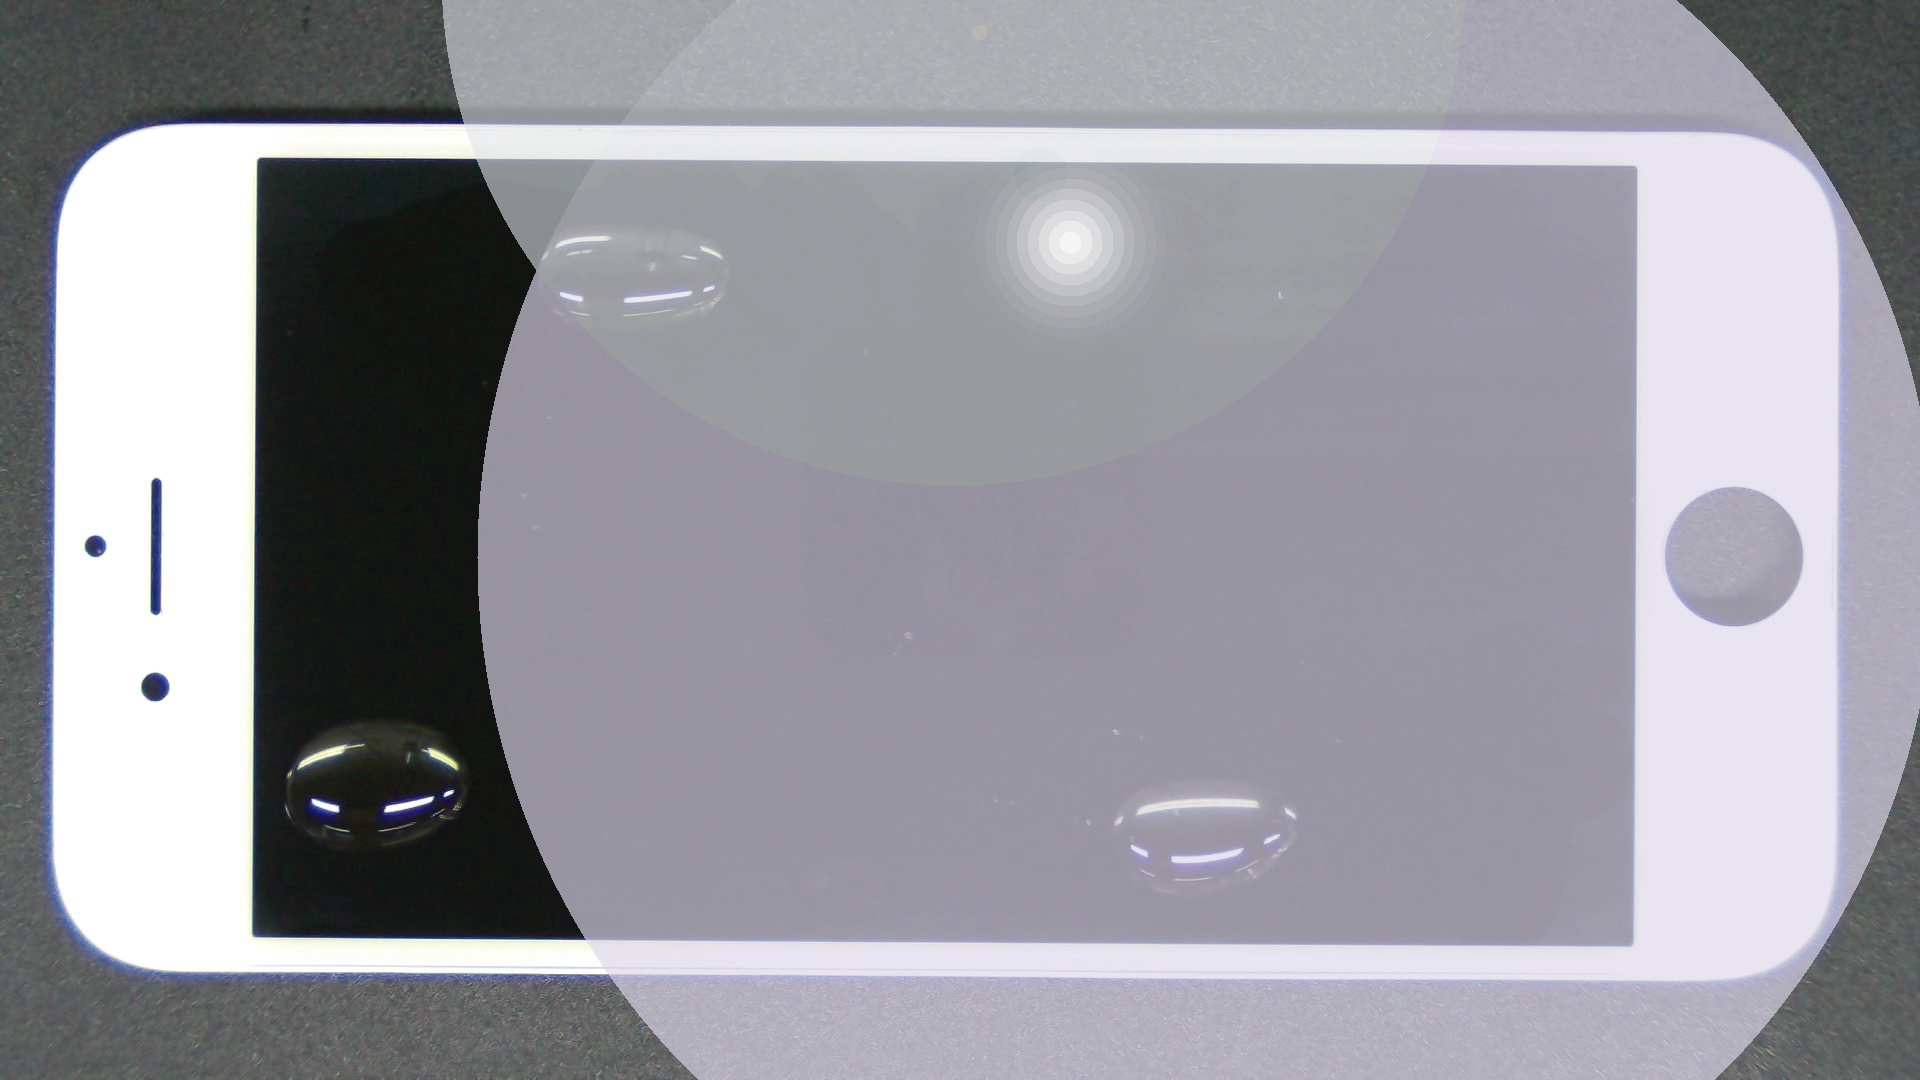oil: (607, 389, 1816, 1080), (193, 359, 574, 1079), (301, 112, 898, 338)
